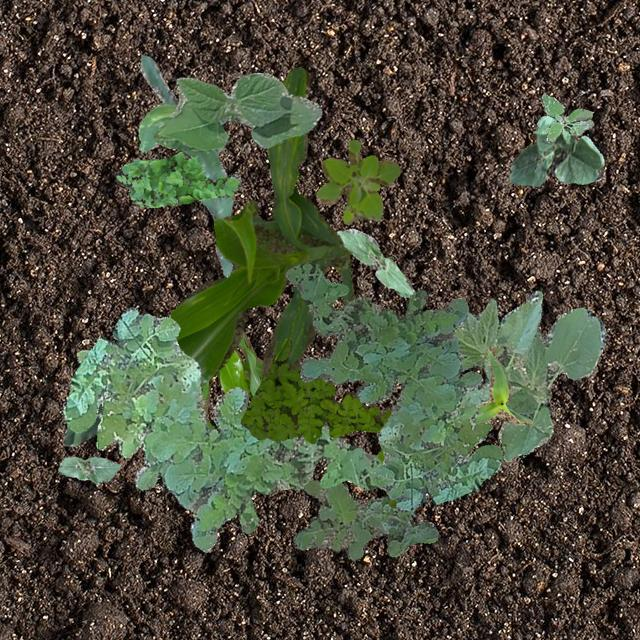crop: (170, 66, 353, 384), (452, 290, 604, 460), (138, 55, 232, 276), (152, 72, 320, 150), (508, 114, 602, 186), (200, 330, 262, 430), (336, 228, 414, 296), (474, 346, 532, 424), (58, 456, 120, 484), (62, 402, 101, 444)
weed: (61, 306, 382, 552), (284, 260, 502, 510), (240, 338, 396, 507), (294, 478, 436, 558), (314, 138, 400, 224), (114, 150, 240, 207), (540, 92, 592, 142), (77, 348, 89, 362)
